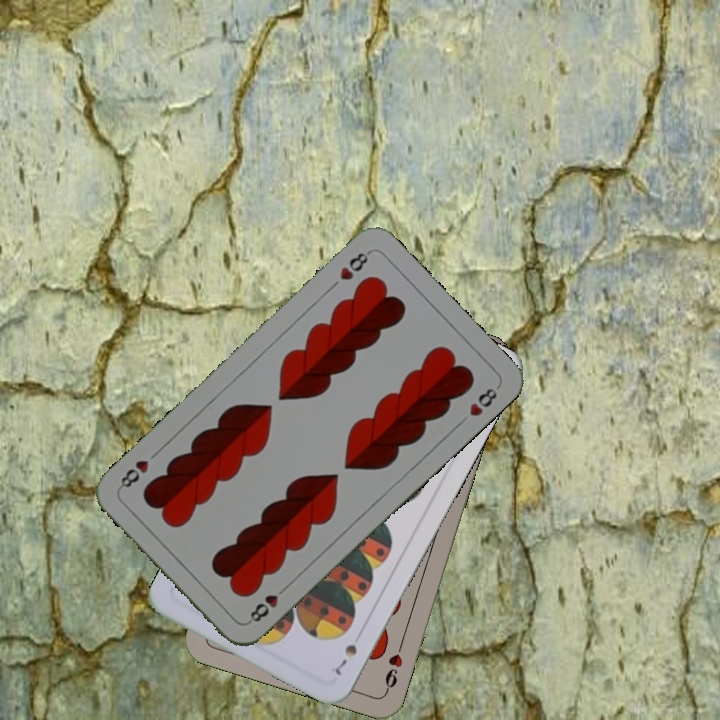H8: (244, 581, 291, 626), (335, 246, 373, 283)
H9: (381, 637, 406, 695)
S7: (330, 640, 360, 679)
